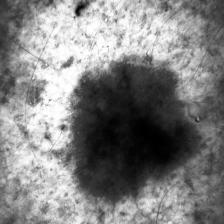Benign Marking or Mole: (73, 63, 202, 193)
